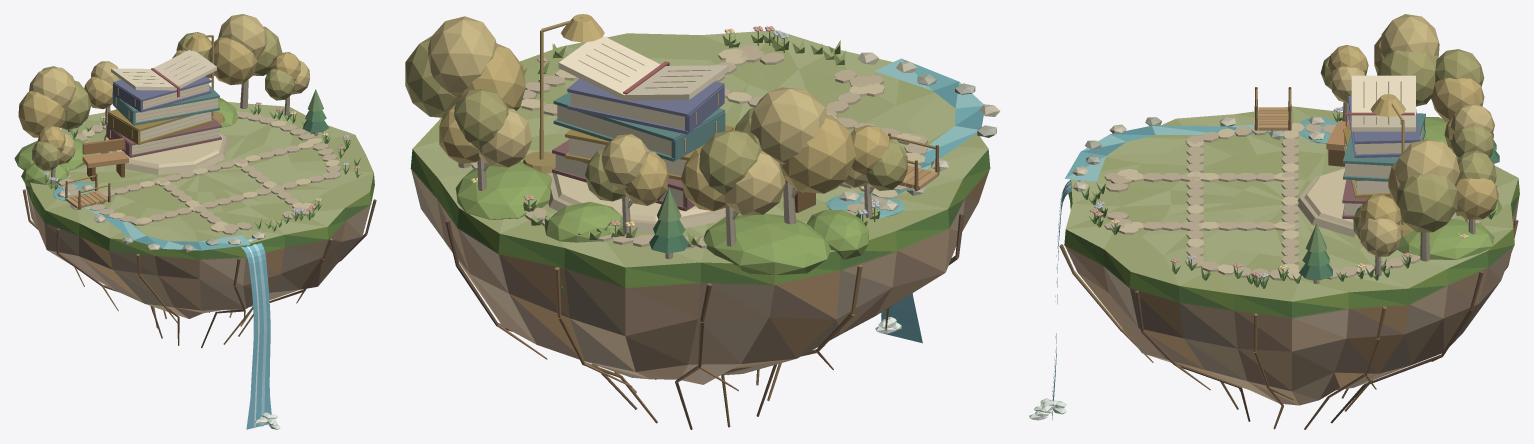
File: island_english_v2.glb
3 renders of one model, left to right at view 1: azimuth 30°, elevation 25°; view 2: azimuth 150°, elevation 25°; view 3: azimuth 270°, elevation 25°, orthographic. The views are drawn at different scales.
Parts seen in each view (by area): view 1: SW15_english_meadow, SW15_english_stone, SW15_english_cliff, SW15_english_leaves, SW15_english_timber, SW15_english_water, SW15_english_roots, SW15_english_brass, SW15_english_foam, SW15_english_flowers; view 2: SW15_english_meadow, SW15_english_leaves, SW15_english_cliff, SW15_english_stone, SW15_english_timber, SW15_english_water, SW15_english_roots, SW15_english_brass, SW15_english_flowers; view 3: SW15_english_meadow, SW15_english_cliff, SW15_english_leaves, SW15_english_stone, SW15_english_timber, SW15_english_roots, SW15_english_water, SW15_english_brass, SW15_english_flowers, SW15_english_foam.
Part boxes in pixels (box(x1,y1,x2,y2)): SW15_english_meadow: box(14, 98, 374, 259); SW15_english_stone: box(57, 50, 341, 252); SW15_english_cliff: box(26, 187, 370, 318); SW15_english_leaves: box(18, 14, 360, 231); SW15_english_timber: box(50, 76, 318, 209); SW15_english_water: box(53, 181, 271, 429); SW15_english_roots: box(22, 55, 376, 347); SW15_english_brass: box(110, 34, 225, 150); SW15_english_foam: box(247, 246, 280, 429); SW15_english_flowers: box(43, 68, 360, 212); SW15_english_meadow: box(410, 30, 990, 288); SW15_english_leaves: box(405, 16, 907, 293); SW15_english_cliff: box(411, 169, 989, 384); SW15_english_stone: box(471, 36, 999, 248); SW15_english_timber: box(458, 78, 939, 259); SW15_english_water: box(825, 58, 983, 343); SW15_english_roots: box(445, 43, 964, 429); SW15_english_brass: box(523, 14, 718, 173); SW15_english_flowers: box(471, 26, 879, 226); SW15_english_meadow: box(1064, 106, 1519, 318); SW15_english_cliff: box(1065, 195, 1519, 405); SW15_english_leaves: box(1080, 14, 1499, 288); SW15_english_stone: box(1072, 75, 1481, 280); SW15_english_timber: box(1254, 87, 1475, 284); SW15_english_roots: box(1059, 81, 1518, 429); SW15_english_water: box(1051, 117, 1337, 420); SW15_english_brass: box(1370, 94, 1413, 236); SW15_english_flowers: box(1090, 106, 1468, 277); SW15_english_foam: box(1029, 182, 1070, 420).
Size of the model in its own units: 9.42 by 8.05 by 9.94.
